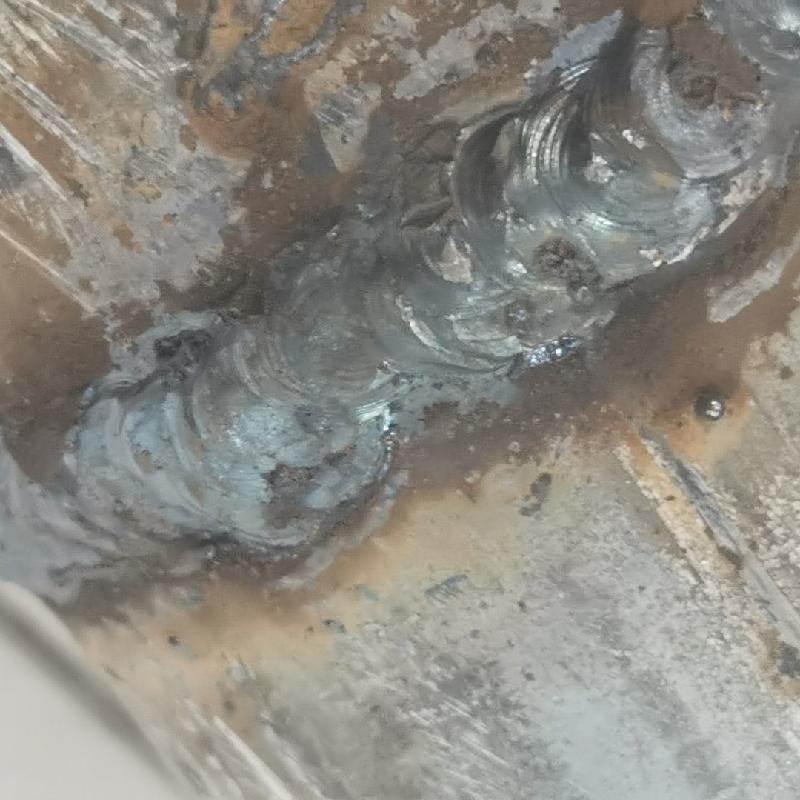good: (2, 4, 798, 588)
